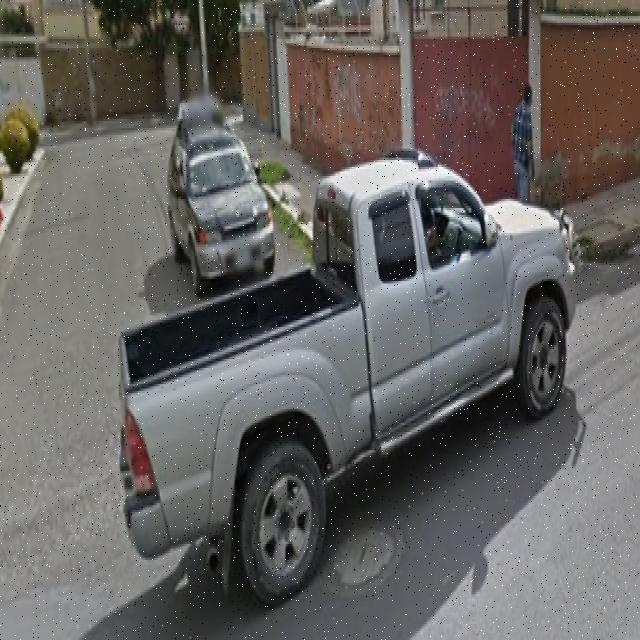cars: (96, 79, 282, 303)
